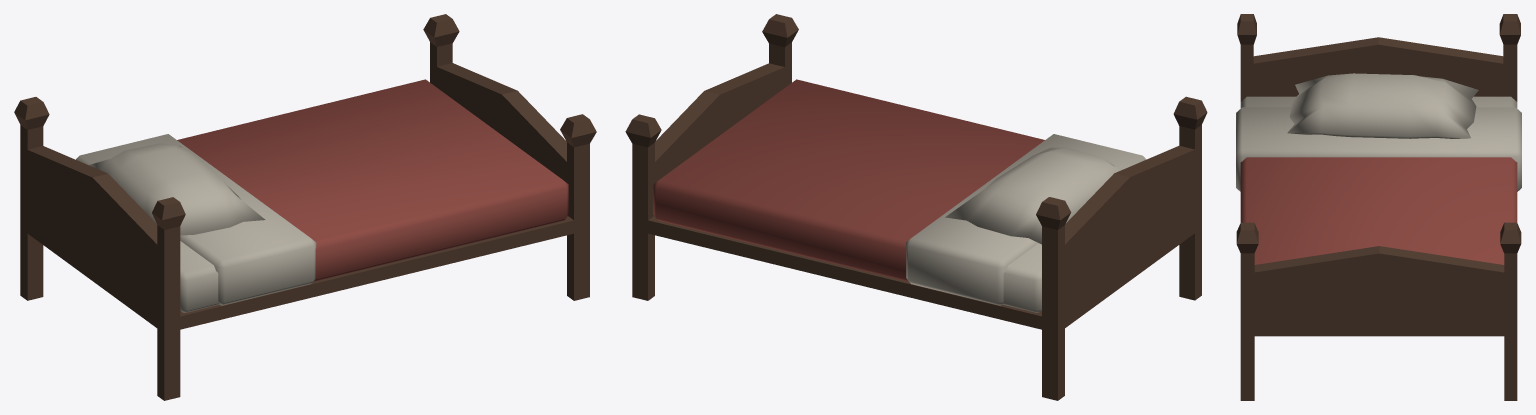
Rendered from S_Bed_02.fbx.
The picture shows the model from 3 angles, left to right: view 1: azimuth 30°, elevation 25°; view 2: azimuth 150°, elevation 25°; view 3: azimuth 270°, elevation 25°; orthographic projection. The views are drawn at different scales.
Parts seen in each view (by area): view 1: S_Bed_02; view 2: S_Bed_02; view 3: S_Bed_02.
Boxes of the visible parts, left/top/right/bottom form: S_Bed_02: left=14, top=14, right=596, bottom=400; S_Bed_02: left=625, top=14, right=1207, bottom=400; S_Bed_02: left=1236, top=14, right=1521, bottom=400.
Bounding box in the file's own units: 279 × 120 × 165.
